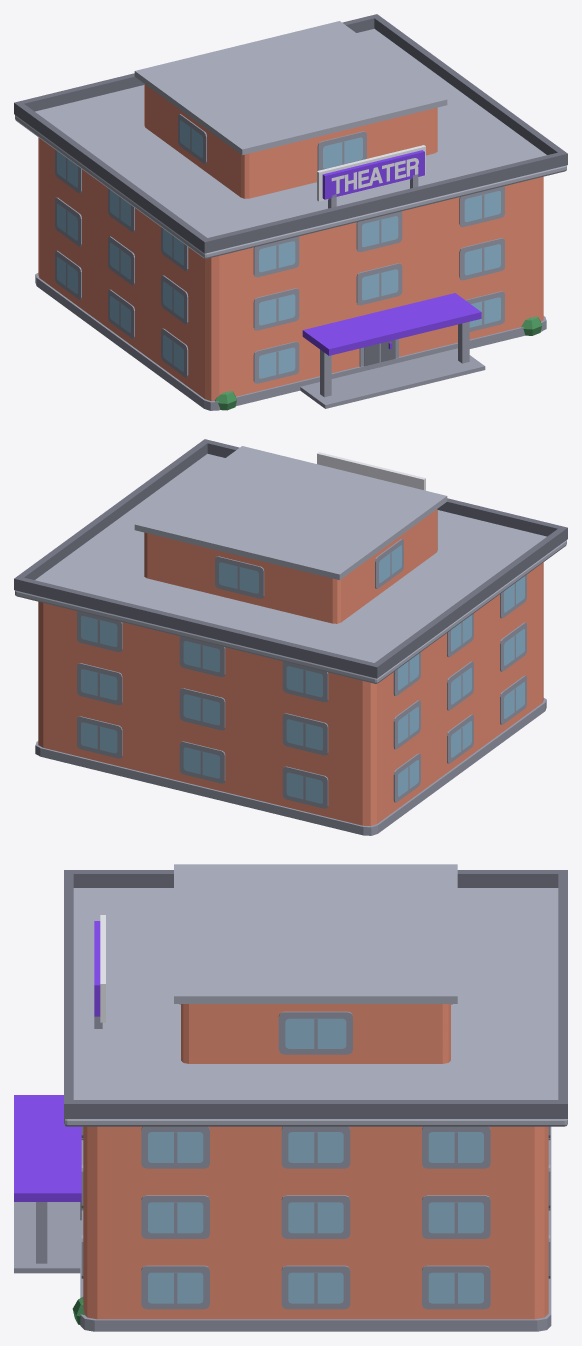
File: theater-2x2-3f.glb
The picture shows the model from 3 angles, top to bottom: view 1: azimuth 30°, elevation 25°; view 2: azimuth 150°, elevation 25°; view 3: azimuth 270°, elevation 25°; orthographic projection. The views are drawn at different scales.
Parts seen in each view (by area): view 1: theater-2x2-3f; view 2: theater-2x2-3f; view 3: theater-2x2-3f.
Part boxes in pixels (x1,y1,x2,y2): theater-2x2-3f: [14, 14, 567, 410]; theater-2x2-3f: [14, 439, 567, 835]; theater-2x2-3f: [14, 864, 567, 1331].
Size of the model in its own units: 2 by 1.16 by 2.
Materials: 1 (1 with a texture image).
